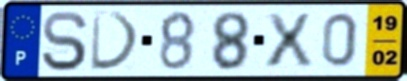0: (319, 10, 361, 70)
8: (208, 9, 252, 72), (158, 10, 199, 72)
D: (88, 10, 143, 73)
S: (39, 9, 91, 74)
X: (263, 11, 316, 70)
